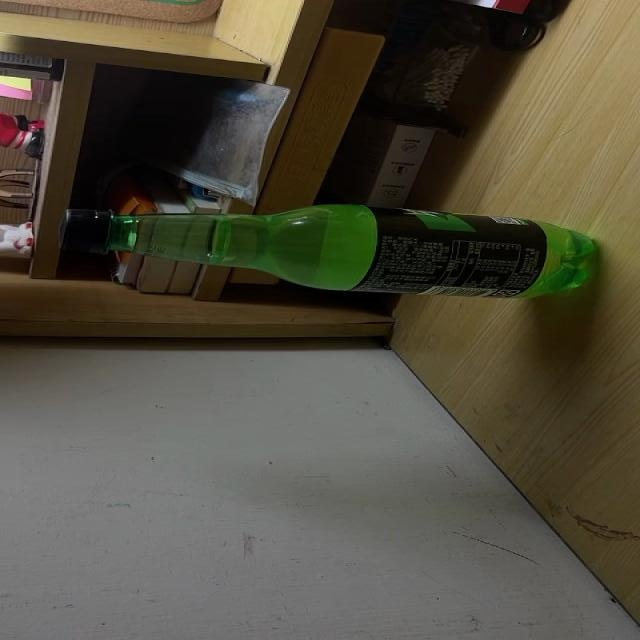Mountain-Dew: (61, 206, 600, 298)
